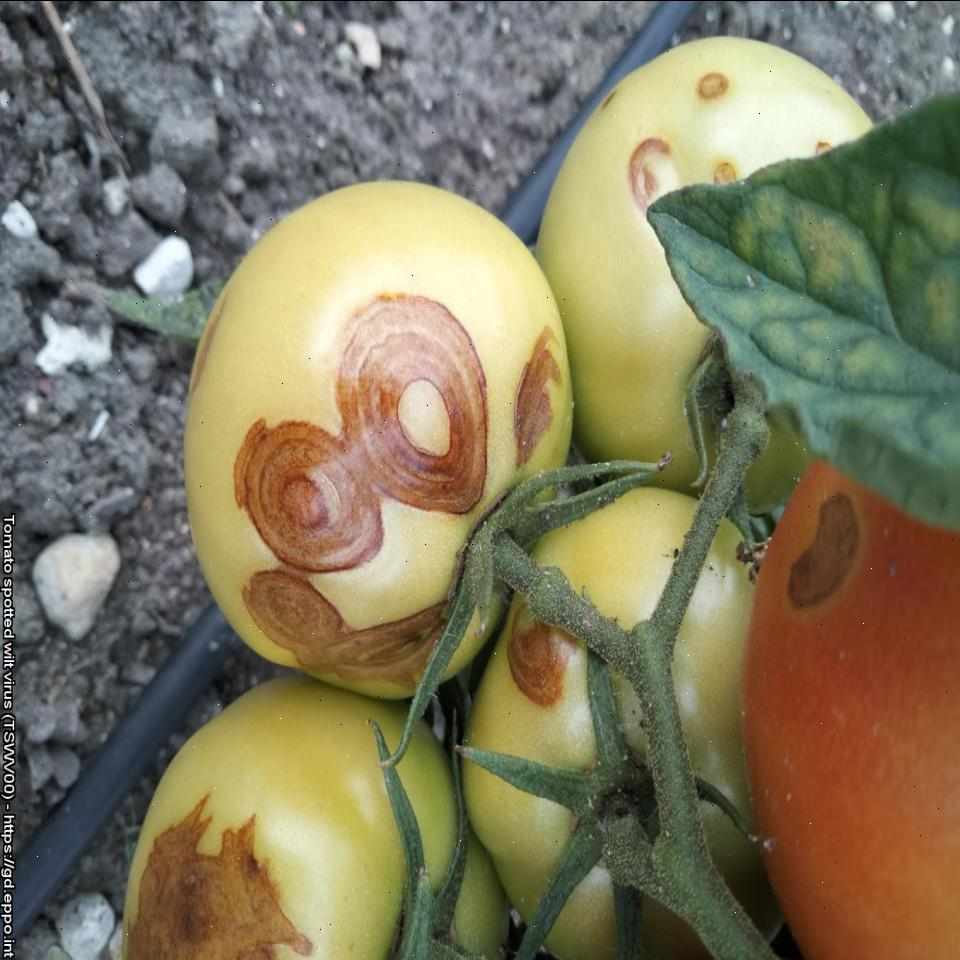Spotted wilt Virus: (186, 186, 576, 686), (457, 487, 810, 960), (546, 40, 892, 510), (114, 697, 468, 960)
